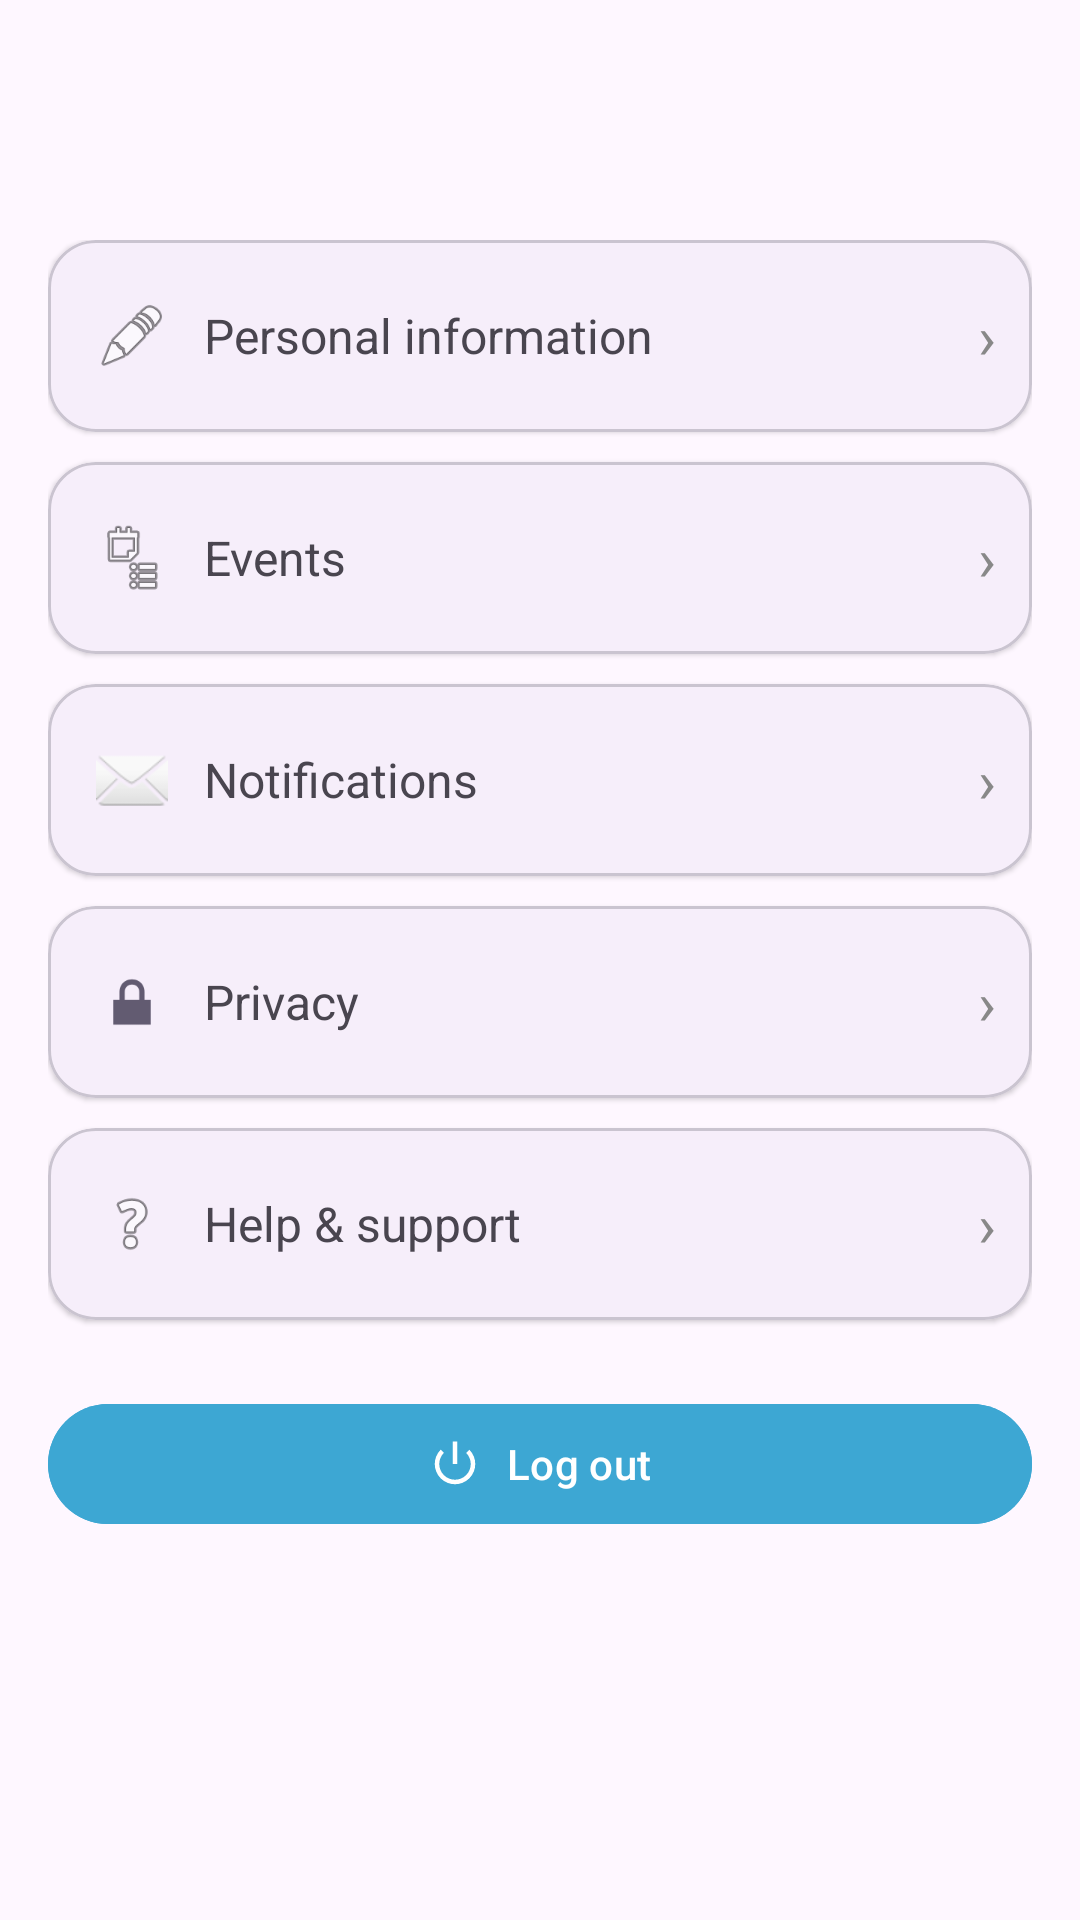

Point at icon controls on the screen. Image size 1080x1920, points as (x=x, y=y).
agenda: (x=132, y=558)
edit: (x=131, y=335)
email: (x=132, y=781)
lock: (x=132, y=1002)
